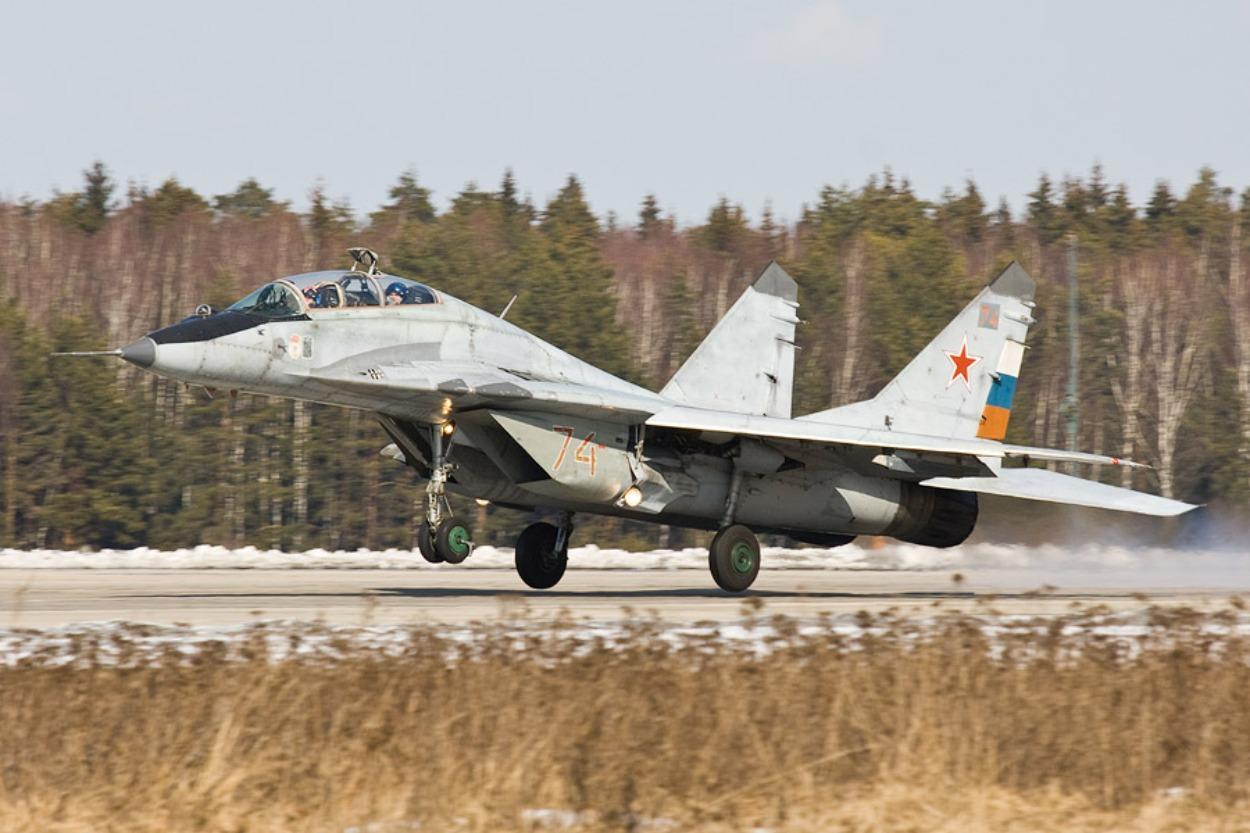Mig-29: (63, 175, 1127, 635)
